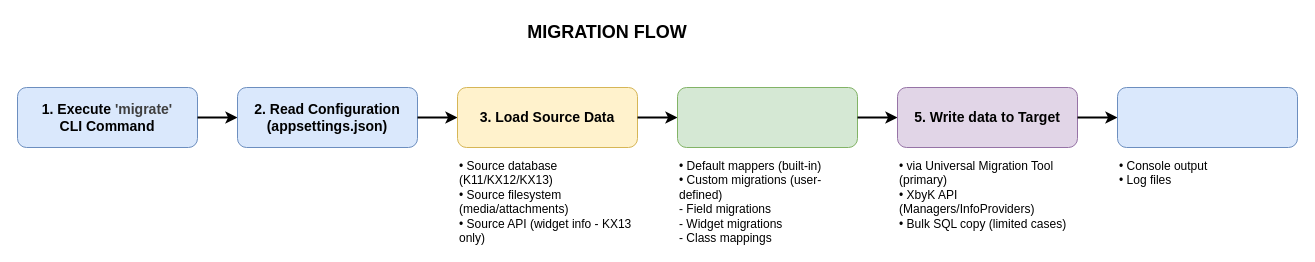
The diagram is 1315 pixels wide and 262 high, and some of its shapes have lost their labels. Each missing label, with the box of its shape:
4. Transform Data: (676, 86, 858, 148)
6. Generate Reports: (1116, 86, 1298, 148)
